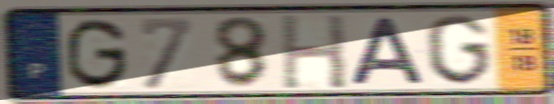7: (137, 15, 198, 91)
8: (211, 14, 273, 91)
A: (345, 15, 429, 87)
G: (422, 13, 494, 88), (64, 16, 131, 92)
H: (277, 12, 350, 92)
